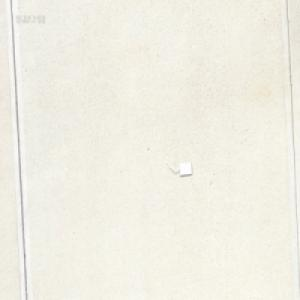LuggageTag: (165, 160, 192, 176)
